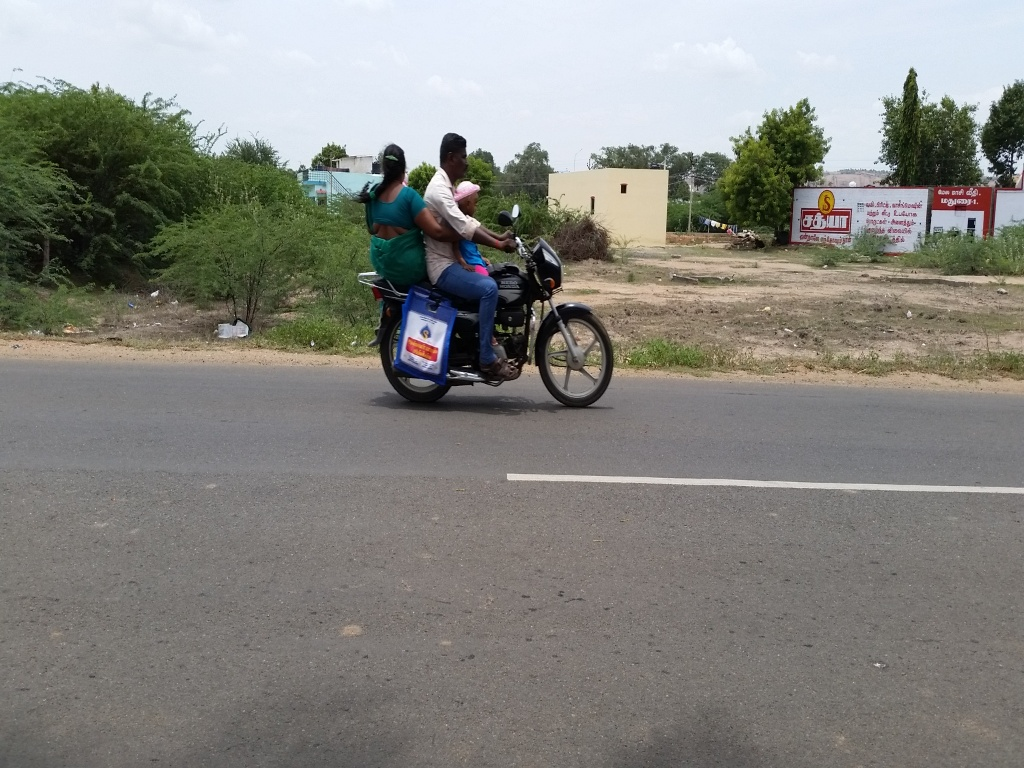biker: (337, 97, 638, 428)
nohelmet: (431, 121, 483, 195), (369, 126, 421, 200)
